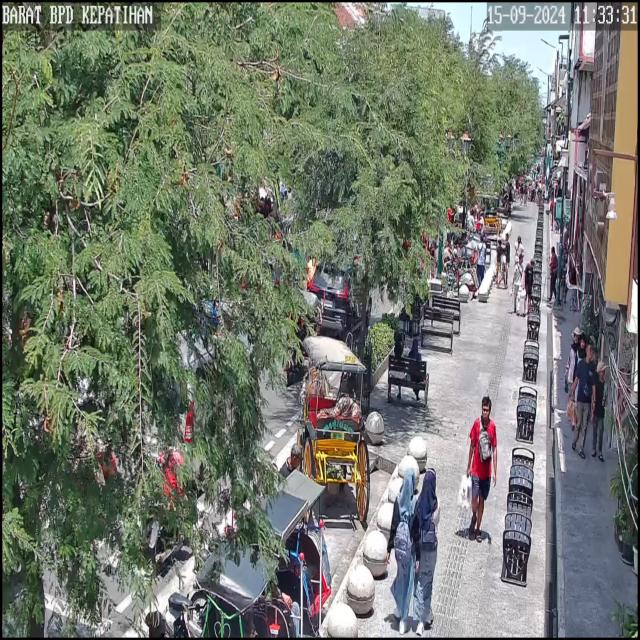Car: (301, 252, 375, 340)
